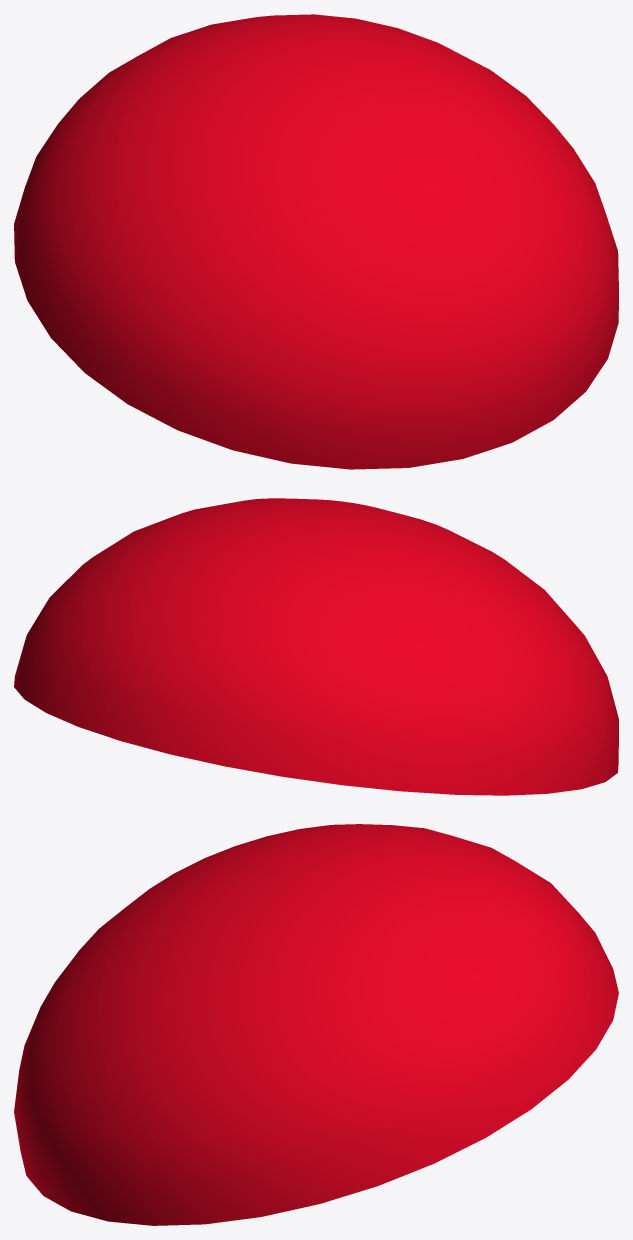
File: ufo_b1.fbx
3 views of the same model, one above another, from view 1: azimuth 30°, elevation 25°; view 2: azimuth 150°, elevation 25°; view 3: azimuth 270°, elevation 25° (orthographic).
Visible parts, largest first — view 1: b1.003; view 2: b1.003; view 3: b1.003.
Part boxes in pixels (x1,y1,x2,y2): b1.003: (14, 14, 618, 469); b1.003: (14, 498, 618, 795); b1.003: (14, 824, 618, 1225).
Size of the model in its own units: 43.99 by 22.63 by 42.68.
